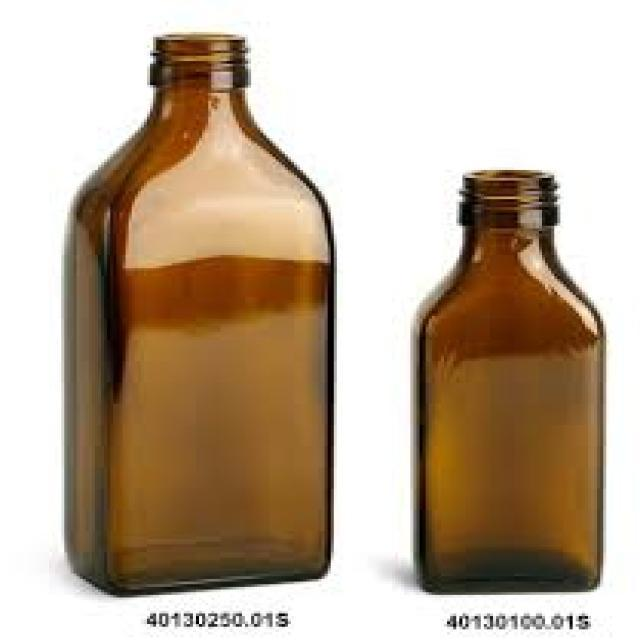Glass: (62, 30, 334, 596), (410, 168, 608, 596)
